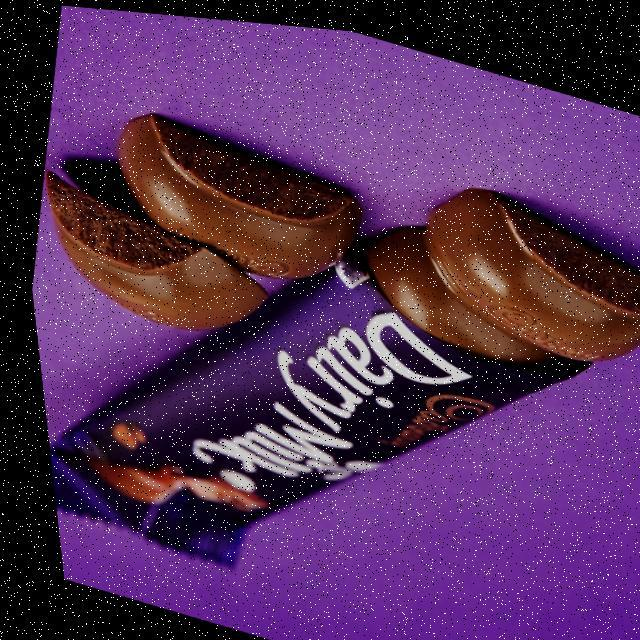cadbury_chocolate: (96, 240, 472, 572)
